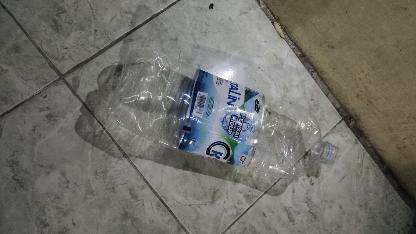Plastic Bottle: (104, 49, 336, 180)
